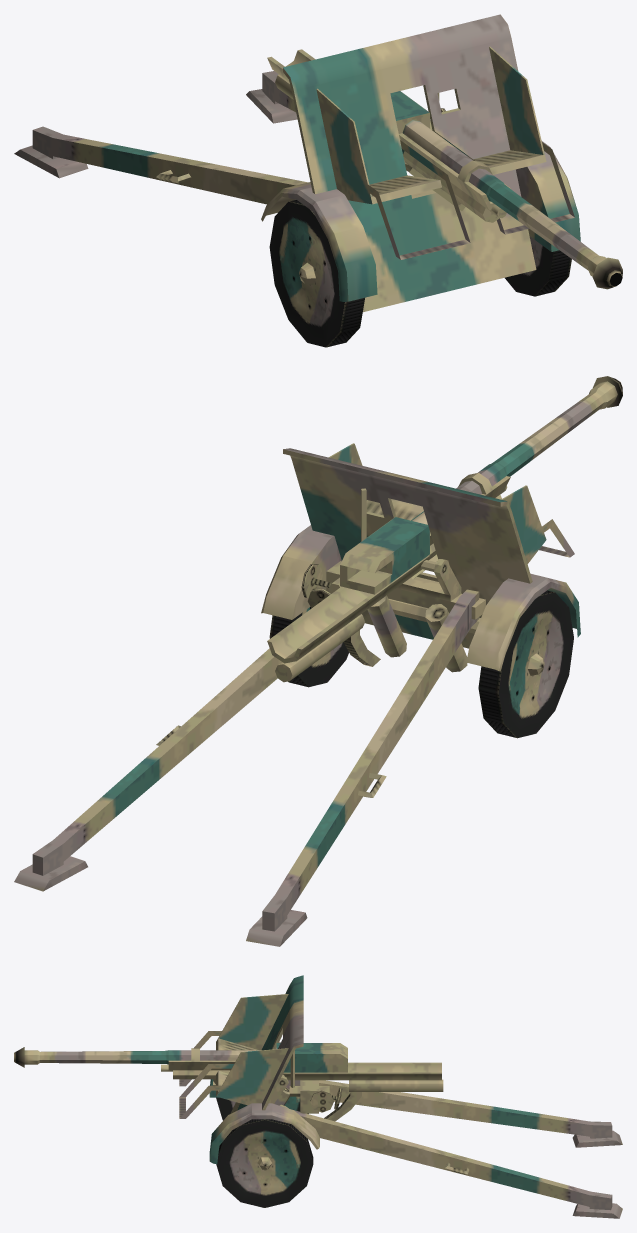
Rendered from JPNType90_75mm.dae.
3 views of the same model, one above another, from view 1: azimuth 30°, elevation 25°; view 2: azimuth 150°, elevation 25°; view 3: azimuth 270°, elevation 25° (orthographic). The views are drawn at different scales.
Visible parts, largest first — view 1: carriage, wheels, trail2, barrel, sleeve, trail1; view 2: carriage, trail2, wheels, trail1, barrel, sleeve, turret; view 3: carriage, wheels, trail1, trail2, sleeve, barrel.
Part boxes in pixels (x1,y1,x2,y2): carriage: (261,14,580,312); wheels: (269,200,571,347); trail2: (14,126,307,204); barrel: (390,91,622,289); sleeve: (267,49,510,222); trail1: (246,71,410,171); carriage: (261,443,580,672); trail2: (246,589,479,946); wheels: (269,590,573,738); trail1: (14,648,281,891); barrel: (340,376,622,594); sleeve: (267,472,510,682); turret: (396,559,461,601); carriage: (179,975,342,1164); wheels: (216,1096,313,1207); trail1: (294,1110,622,1218); trail2: (286,1080,622,1147); sleeve: (161,1048,443,1121); barrel: (14,1043,347,1072).
Size of the model in its own units: 11.64 by 35.77 by 10.86.
